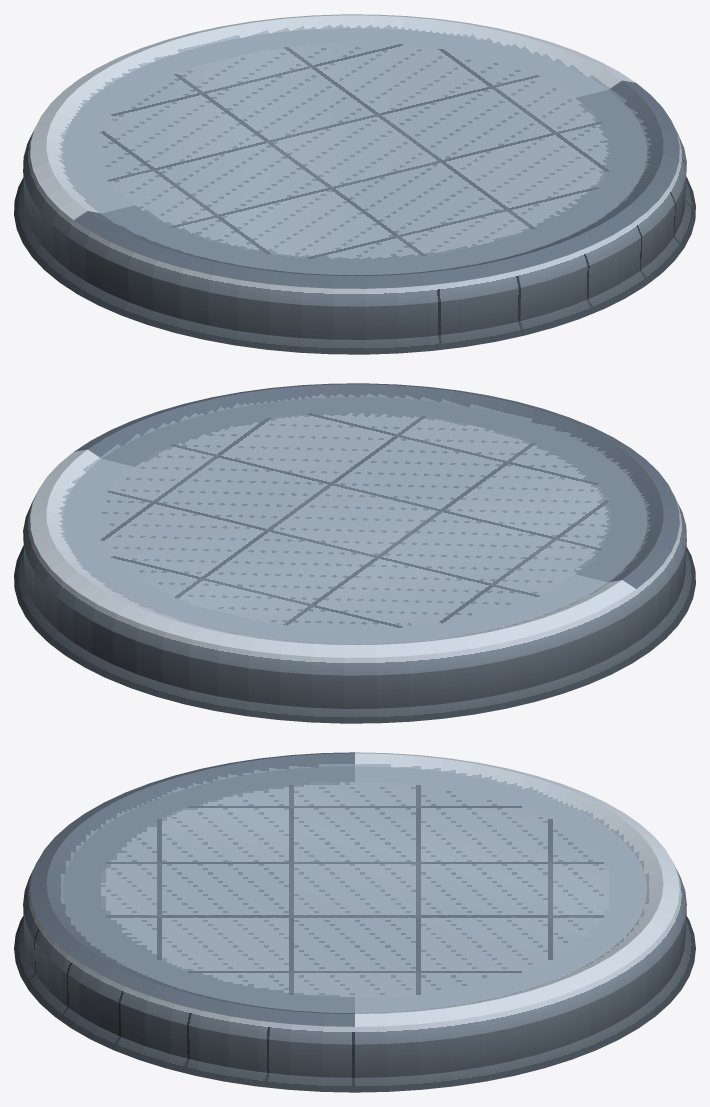
File: platform_floor.glb
3 renders of one model, top to bottom at view 1: azimuth 30°, elevation 25°; view 2: azimuth 150°, elevation 25°; view 3: azimuth 270°, elevation 25°, orthographic.
Visible parts, largest first — view 1: platform_floor; view 2: platform_floor; view 3: platform_floor.
Part boxes in pixels (box(x1,y1,x2,y2)): platform_floor: box(14, 14, 695, 354); platform_floor: box(14, 383, 695, 723); platform_floor: box(14, 752, 695, 1092).
Size of the model in its own units: 2.1 by 0.22 by 2.1.
2 materials, 2 textured.
